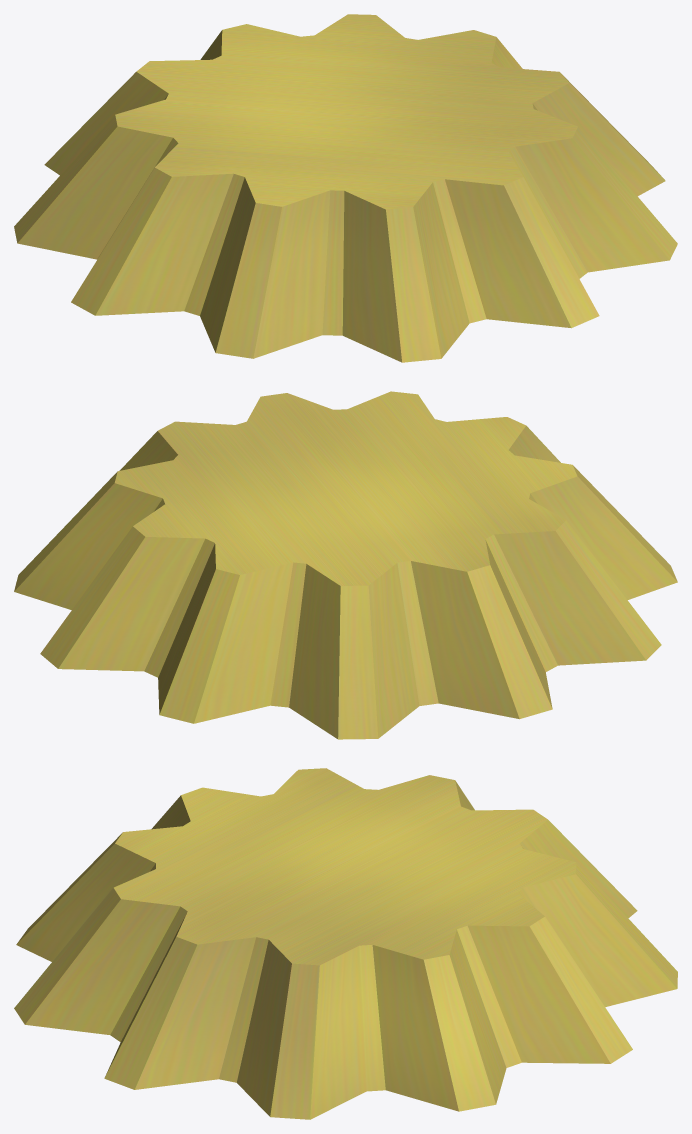
Rendered from CogBevel011.fbx.
3 renders of one model, top to bottom at view 1: azimuth 30°, elevation 25°; view 2: azimuth 150°, elevation 25°; view 3: azimuth 270°, elevation 25°, orthographic.
Visible parts, largest first — view 1: CogBevel011; view 2: CogBevel011; view 3: CogBevel011.
Part boxes in pixels (left/top/right/bottom): CogBevel011: left=14, top=14, right=677, bottom=362; CogBevel011: left=14, top=391, right=677, bottom=739; CogBevel011: left=14, top=768, right=677, bottom=1119.
Bounding box in the file's own units: 107 × 19.69 × 106.
